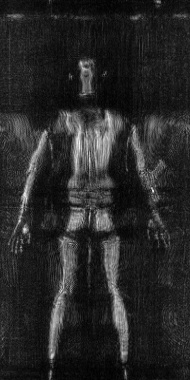gun: (139, 150, 167, 207)
